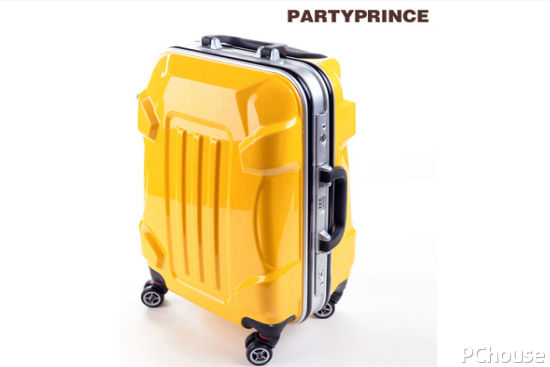luggage: (133, 33, 362, 367)
